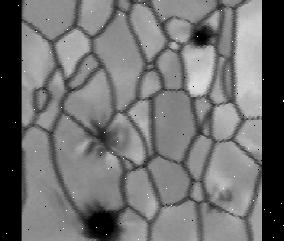good_void: (71, 193, 134, 241), (78, 112, 134, 162), (185, 19, 225, 57), (206, 186, 238, 214)
